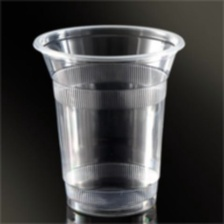glass: (28, 20, 191, 221)
